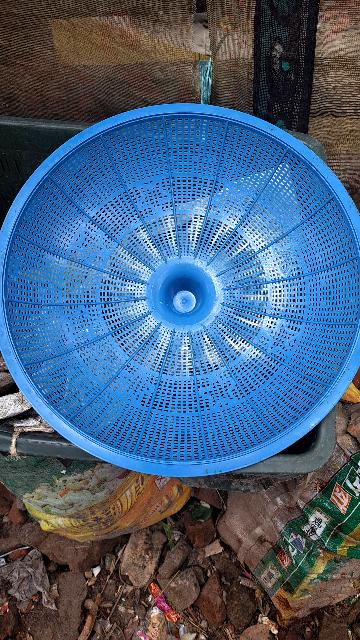hardplastic: (7, 100, 360, 483)
